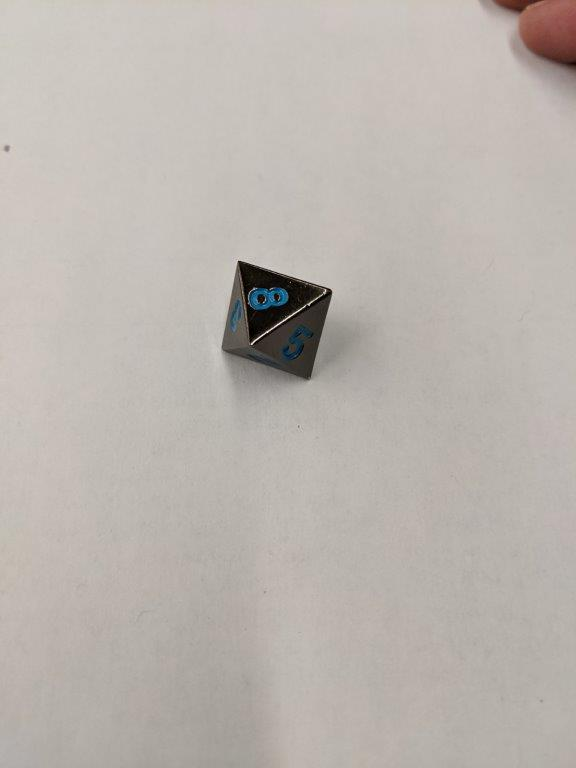d8-8: (222, 261, 335, 387)
